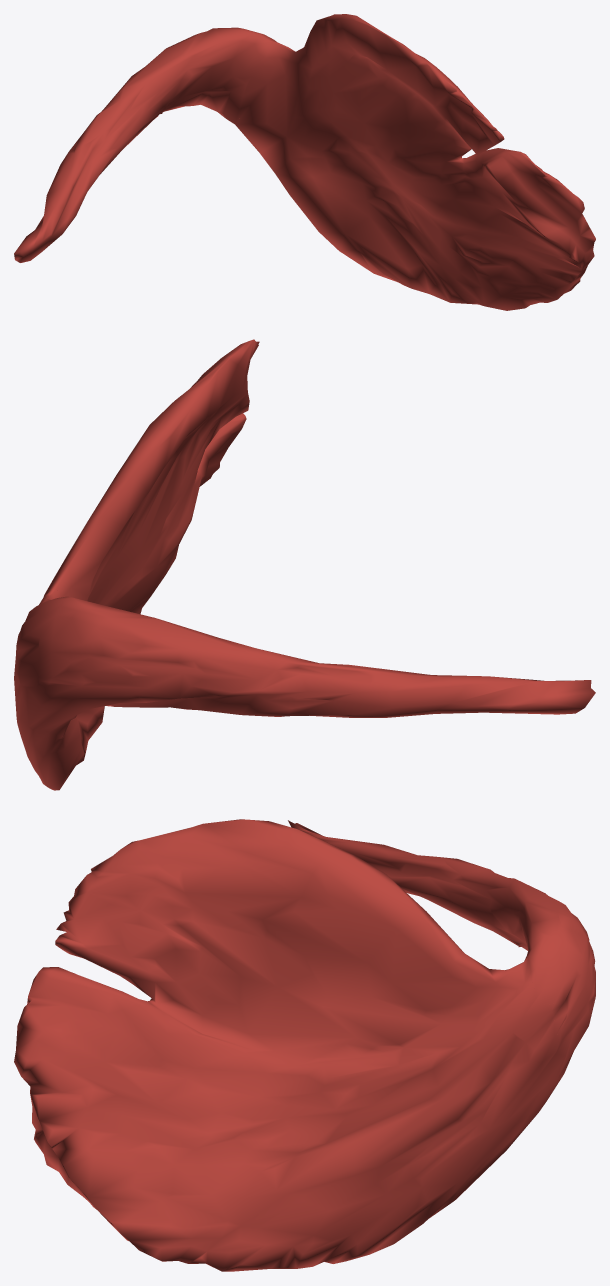
Rendered from musculos-obturator-internus-r.glb.
3 views of the same model, one above another, from view 1: azimuth 30°, elevation 25°; view 2: azimuth 150°, elevation 25°; view 3: azimuth 270°, elevation 25° (orthographic). The views are drawn at different scales.
Parts seen in each view (by area): view 1: Obturator internus.r; view 2: Obturator internus.r; view 3: Obturator internus.r.
Boxes of the visible parts, <box> form: Obturator internus.r: <box>14,14,595,310</box>; Obturator internus.r: <box>14,339,595,790</box>; Obturator internus.r: <box>14,819,595,1271</box>.
Bounding box in the file's own units: 0.0977 × 0.0598 × 0.0816.
